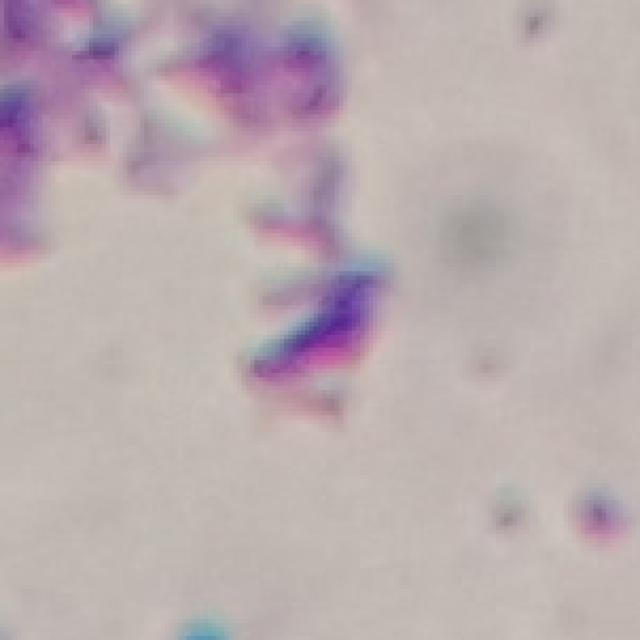non-sperm: (248, 146, 387, 396)
